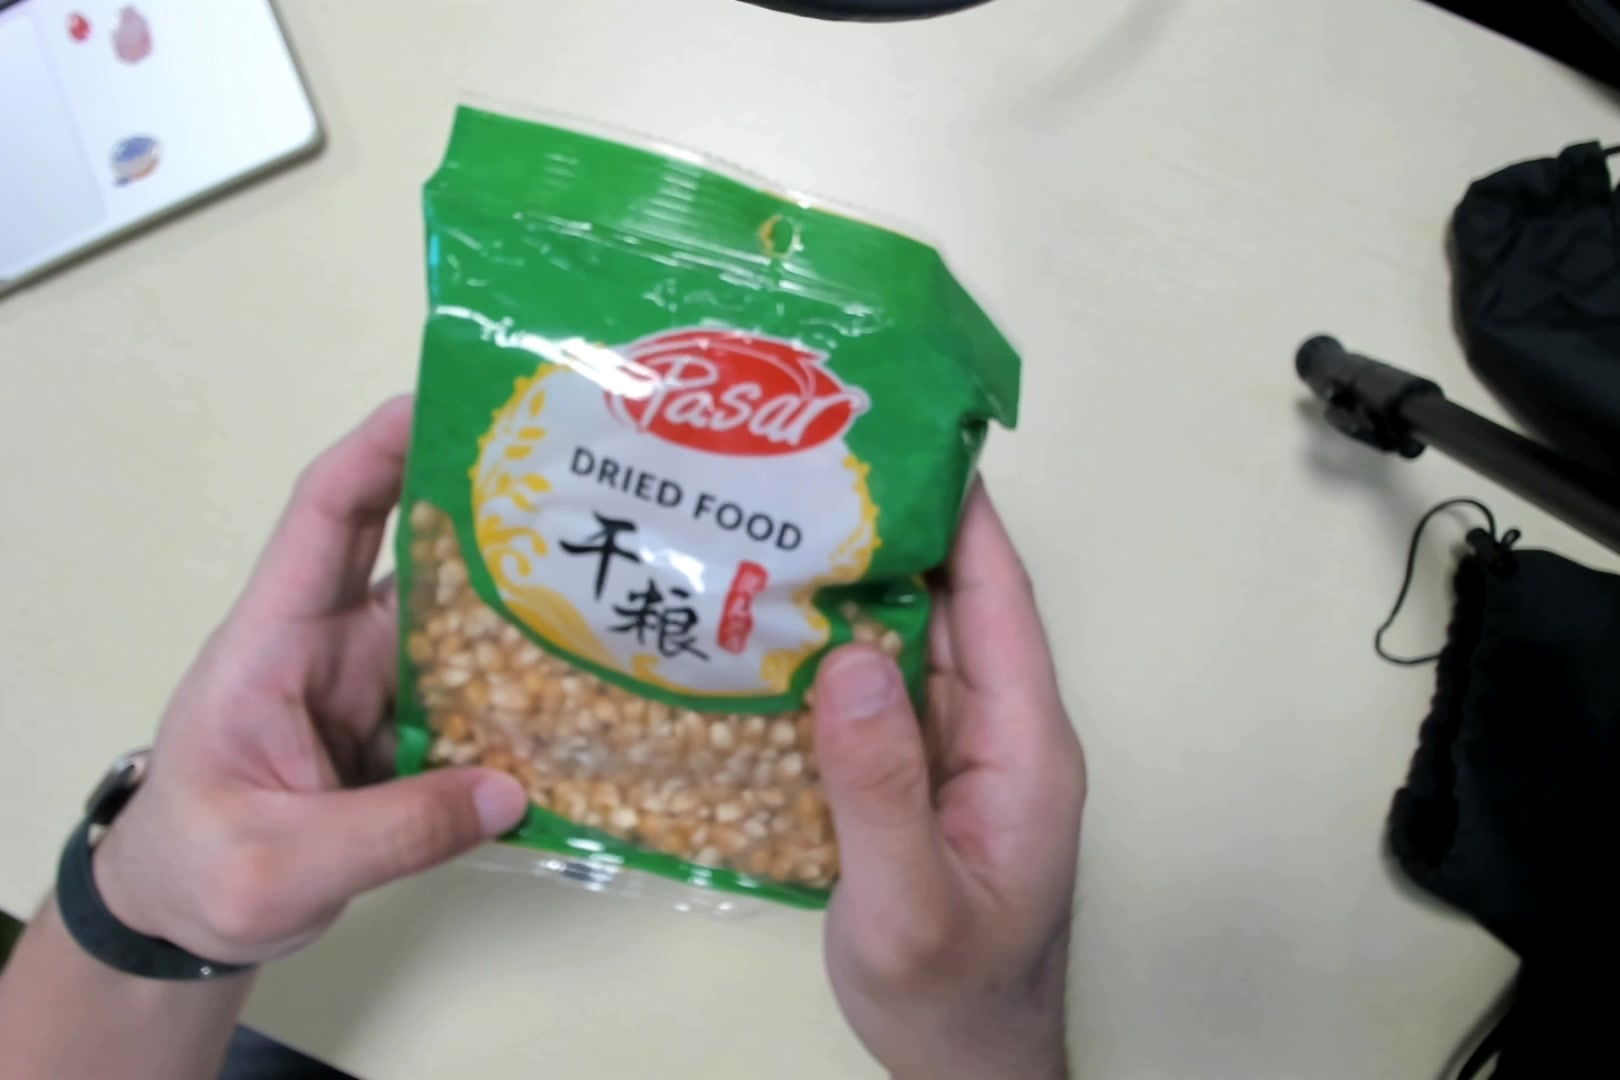DriedBeans(RedGreenSdy)_400-499g_NonHalal_NonHealthy: (400, 145, 952, 926)
